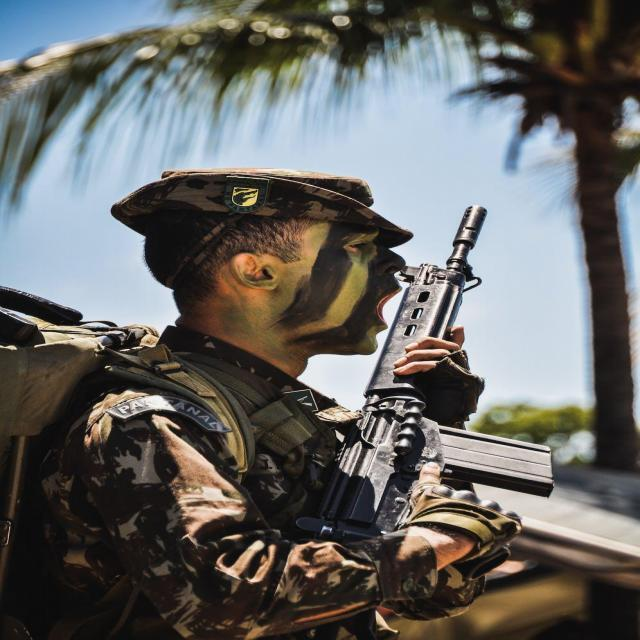weapon: (288, 203, 557, 542)
